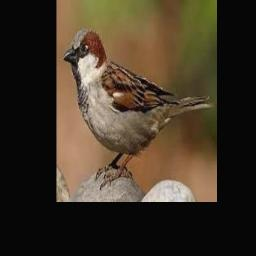Sparrow: (63, 29, 215, 189)
